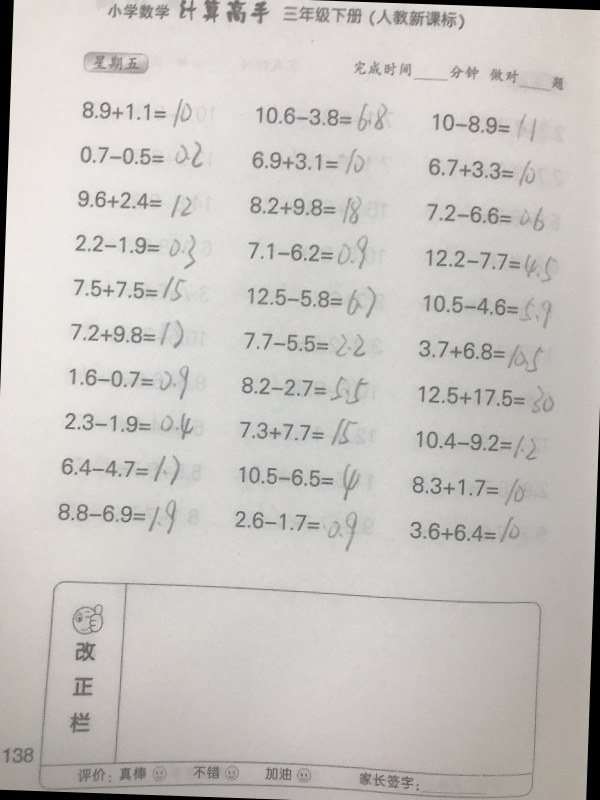equation: (232, 502, 367, 553), (415, 372, 556, 419), (416, 286, 556, 333), (410, 417, 551, 463), (412, 328, 552, 374), (404, 464, 544, 510), (398, 510, 537, 556), (69, 227, 202, 274), (245, 280, 380, 321), (65, 359, 200, 400), (62, 402, 197, 443), (52, 495, 187, 536), (243, 229, 374, 271), (57, 449, 191, 490), (240, 372, 370, 413), (240, 409, 370, 450), (234, 459, 364, 500), (419, 245, 561, 282), (253, 98, 391, 134), (68, 271, 193, 310), (423, 201, 563, 233), (77, 136, 206, 170), (68, 315, 187, 351), (79, 94, 196, 130), (424, 155, 547, 189), (247, 146, 367, 179), (247, 191, 367, 224), (428, 104, 539, 139), (240, 329, 369, 359), (74, 188, 195, 218)
